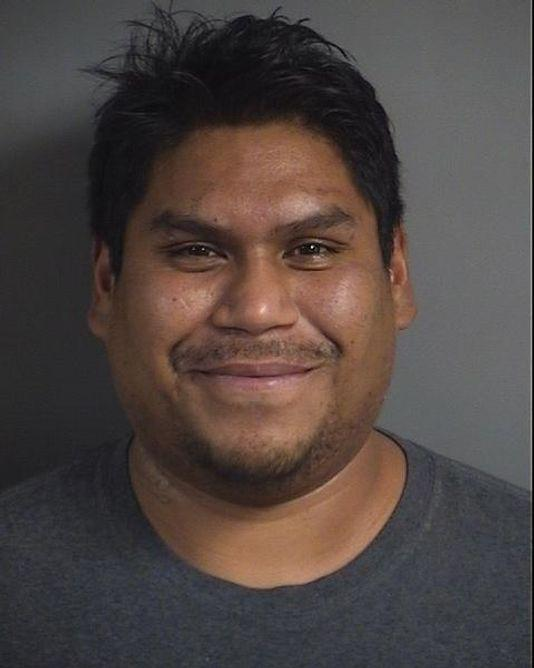Sober: (121, 146, 395, 484)
